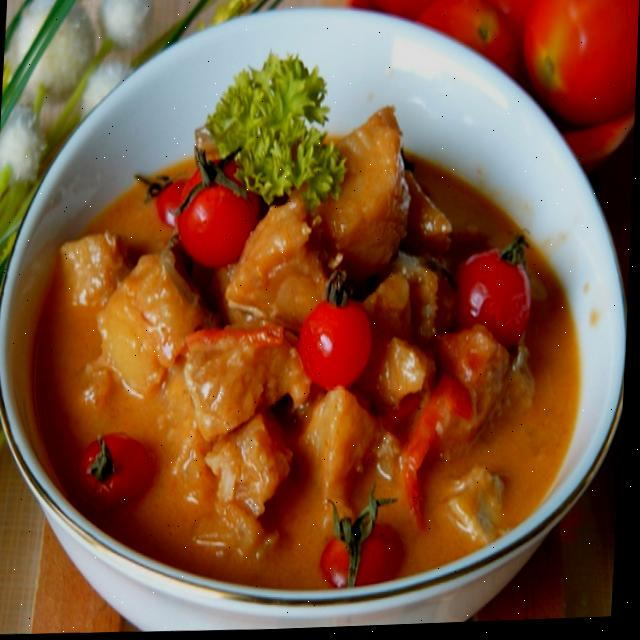熟制海鲜: (4, 0, 621, 638)
